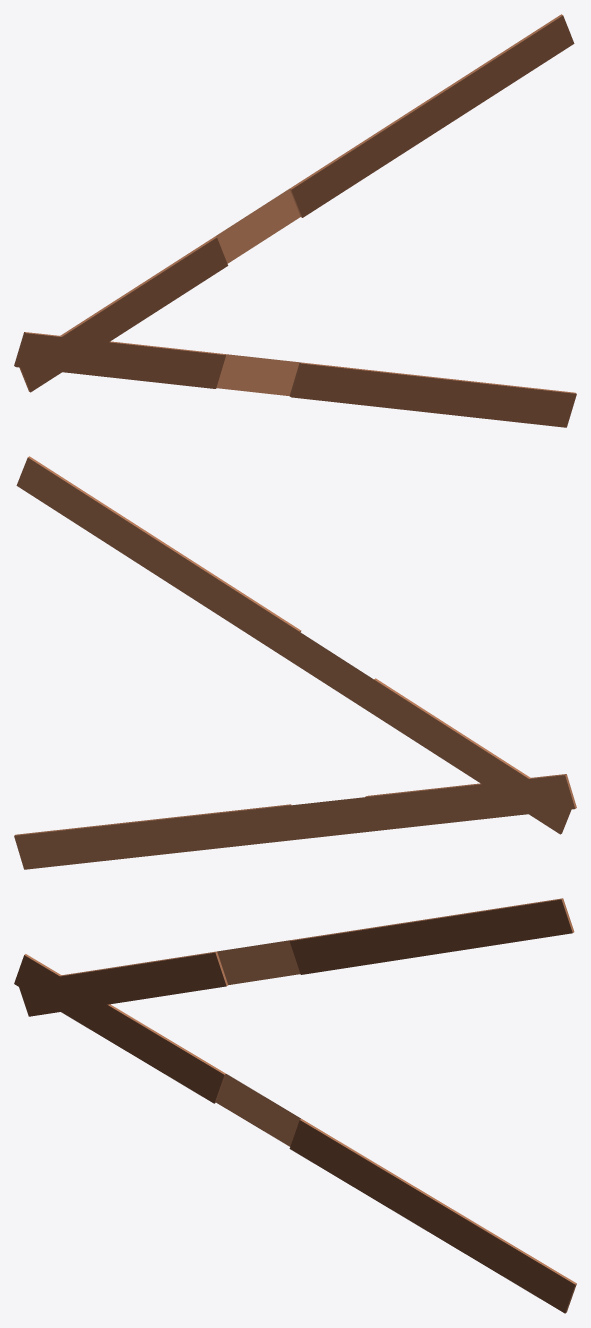
File: narty.obj
The picture shows the model from 3 angles, top to bottom: view 1: azimuth 30°, elevation 25°; view 2: azimuth 150°, elevation 25°; view 3: azimuth 330°, elevation 25°; orthographic projection.
Parts seen in each view (by area): view 1: Mesh1_Model.003; view 2: Mesh1_Model.003; view 3: Mesh1_Model.003.
Boxes of the visible parts, box(x1,y1,x2,y2) form: Mesh1_Model.003: box(14, 14, 576, 427); Mesh1_Model.003: box(14, 456, 576, 869); Mesh1_Model.003: box(14, 898, 576, 1313).
Size of the model in its own units: 2.12 by 1.49 by 0.0109.
Materials: 2 (2 with a texture image).
